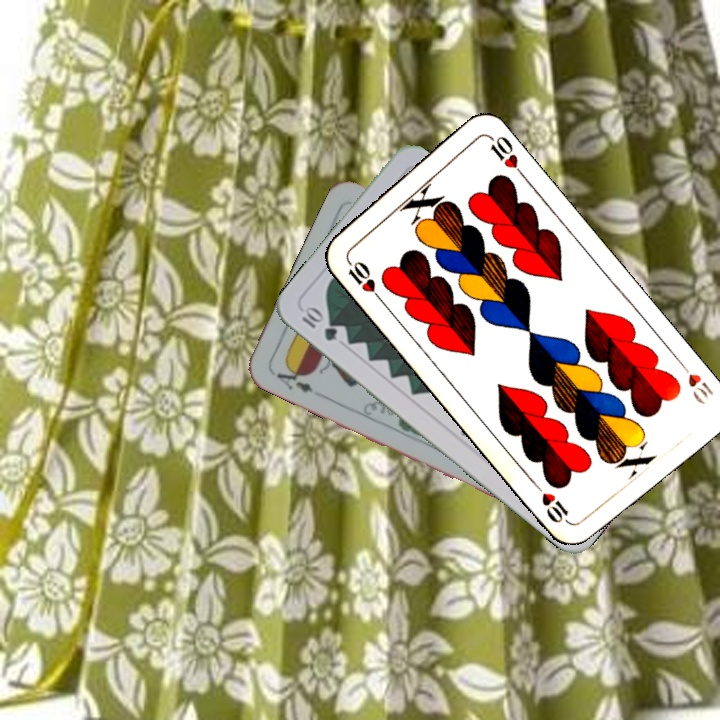EA: (273, 361, 316, 395)
G10: (297, 303, 340, 344)
H10: (673, 355, 717, 407), (342, 254, 385, 303)
